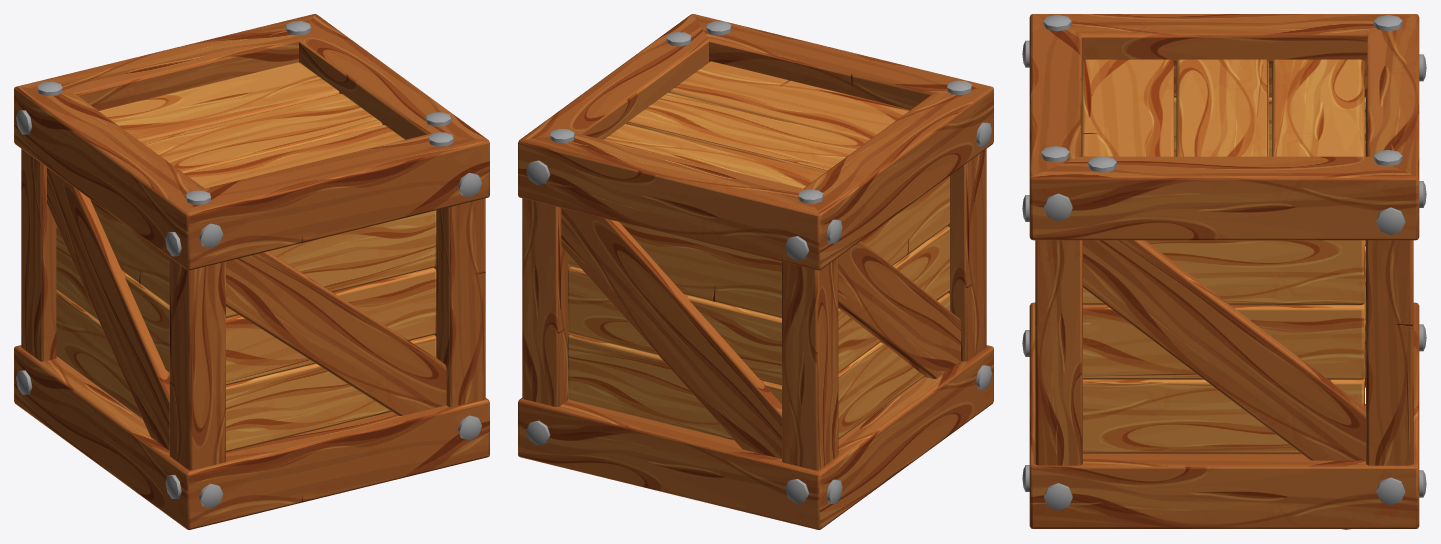
Rendered from wood_box.fbx.
The picture shows the model from 3 angles, left to right: view 1: azimuth 30°, elevation 25°; view 2: azimuth 150°, elevation 25°; view 3: azimuth 270°, elevation 25°; orthographic projection. The views are drawn at different scales.
Visible parts, largest first — view 1: woodbox; view 2: woodbox; view 3: woodbox.
Part boxes in pixels (x1,y1,x2,y2): woodbox: (14, 14, 489, 529); woodbox: (518, 14, 993, 529); woodbox: (1022, 14, 1426, 529).
Size of the model in its own units: 114 by 115 by 114.
